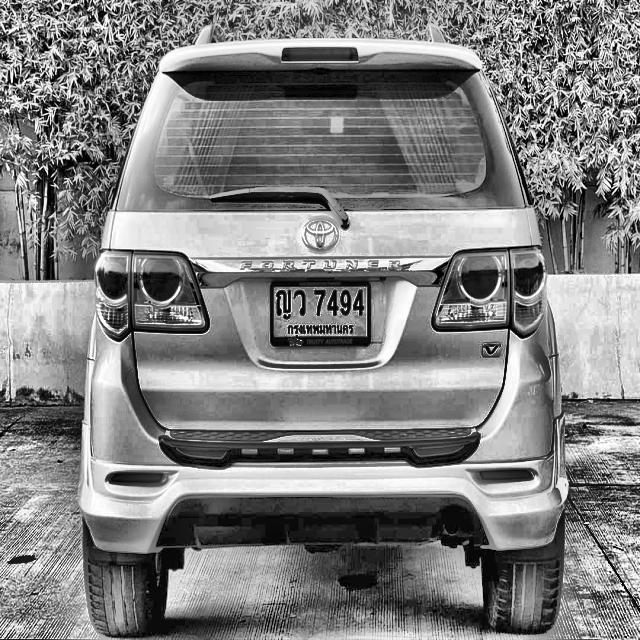license-plate: (270, 278, 372, 350)
